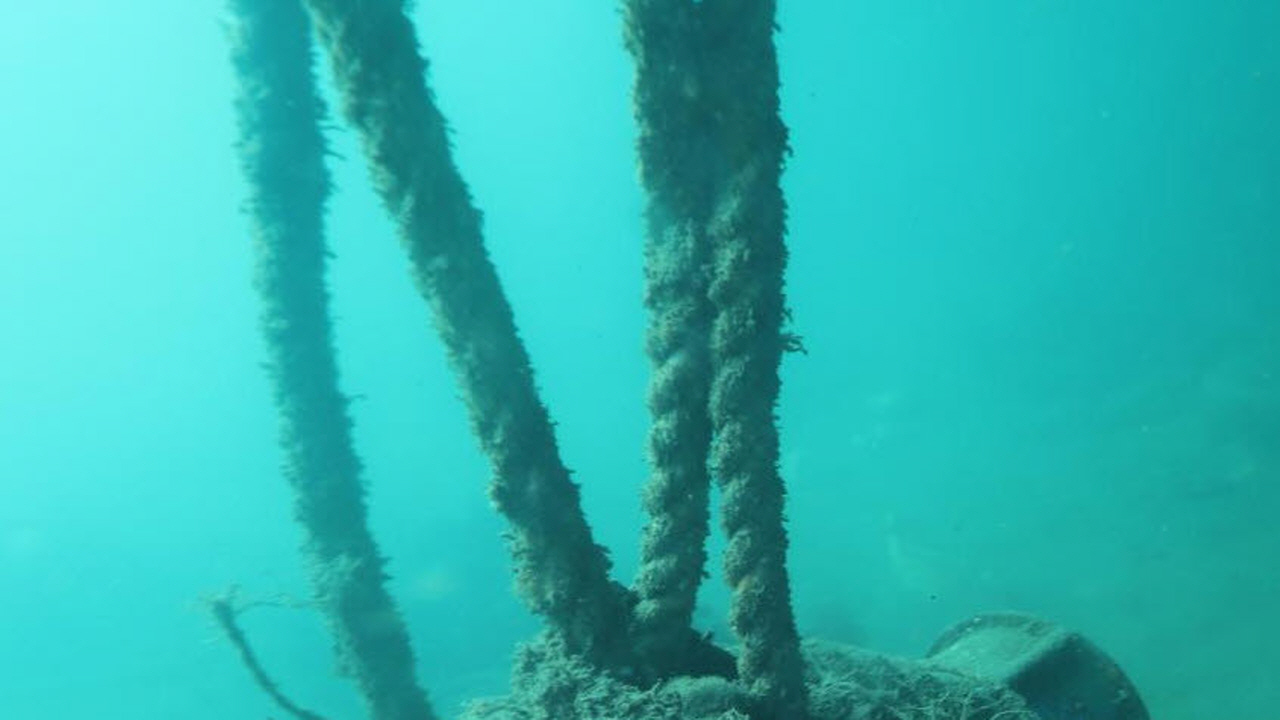bundle of ropes: (207, 1, 818, 718)
